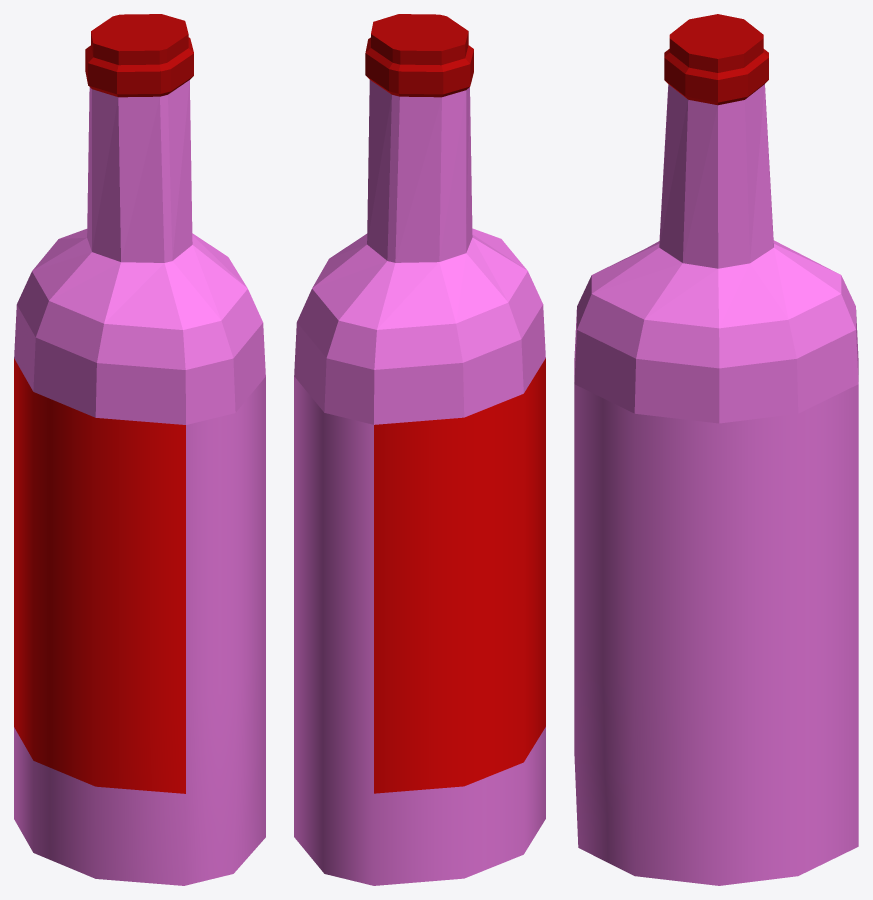
Rendered from BotellaVino4.fbx.
3 views of the same model, side by side, from view 1: azimuth 30°, elevation 25°; view 2: azimuth 150°, elevation 25°; view 3: azimuth 270°, elevation 25° (orthographic).
Parts seen in each view (by area): view 1: BotellaVino04_LOD00; view 2: BotellaVino04_LOD00; view 3: BotellaVino04_LOD00.
Part boxes in pixels (x1,y1,x2,y2): BotellaVino04_LOD00: (14,14,265,885); BotellaVino04_LOD00: (294,14,545,885); BotellaVino04_LOD00: (574,14,858,885).
Size of what is drawn, in the model's own units: 12.38 by 44.79 by 14.44.
Materials: 1 (1 with a texture image).
